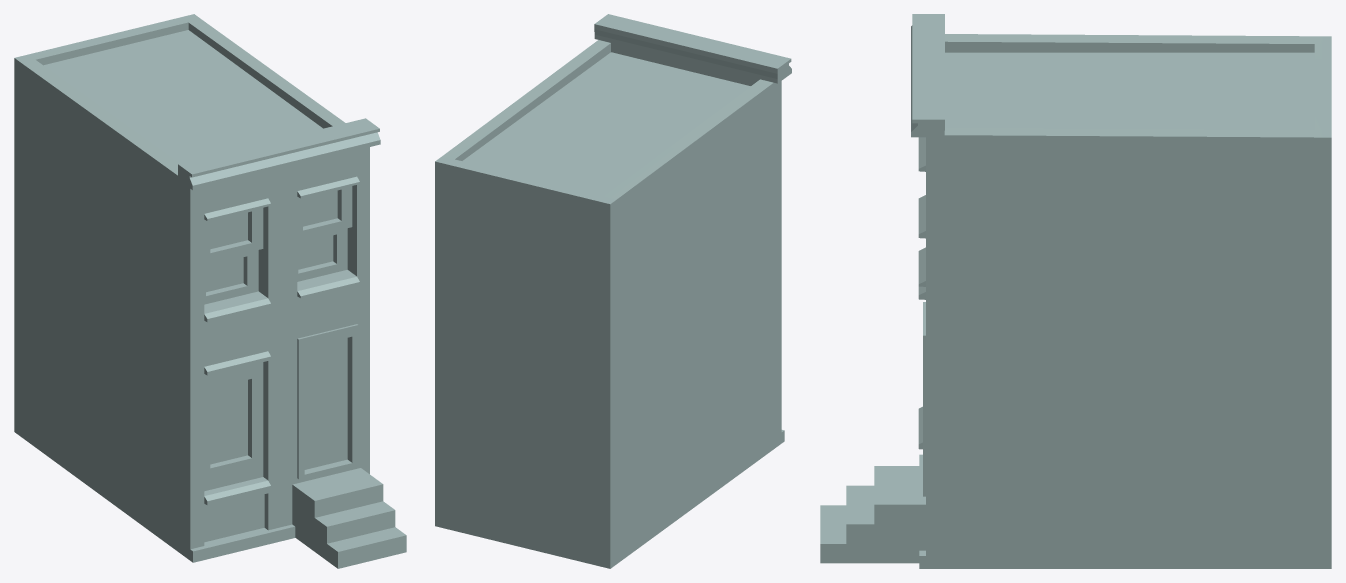
The model's file is building3.fbx.
3 renders of one model, left to right at view 1: azimuth 30°, elevation 25°; view 2: azimuth 150°, elevation 25°; view 3: azimuth 270°, elevation 25°, orthographic. The views are drawn at different scales.
Parts seen in each view (by area): view 1: stairobj:pCube3; view 2: stairobj:pCube3; view 3: stairobj:pCube3.
Part boxes in pixels (<box>): stairobj:pCube3: <box>14,14,406,568</box>; stairobj:pCube3: <box>435,14,791,568</box>; stairobj:pCube3: <box>820,14,1331,568</box>.
Bounding box in the file's own units: 4.7 × 9.36 × 9.6.
